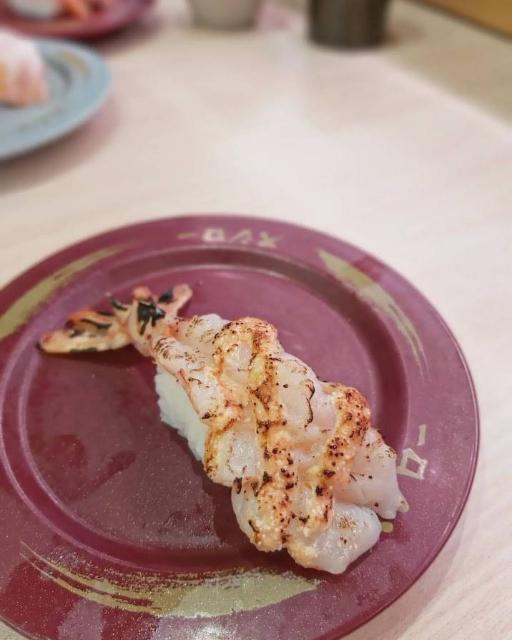janred: (0, 1, 140, 42)
